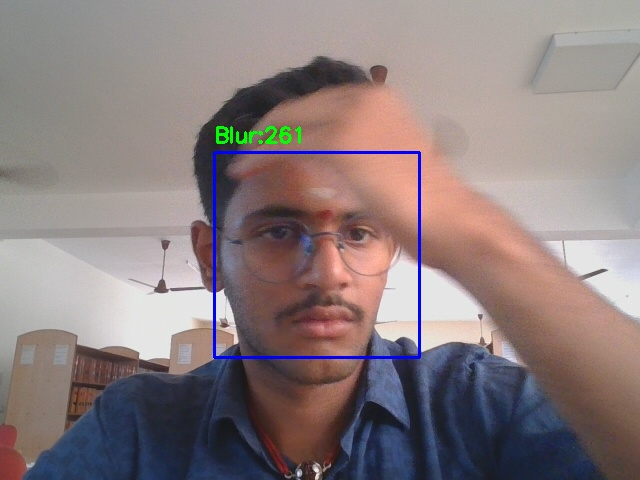real: (214, 152, 419, 357)
